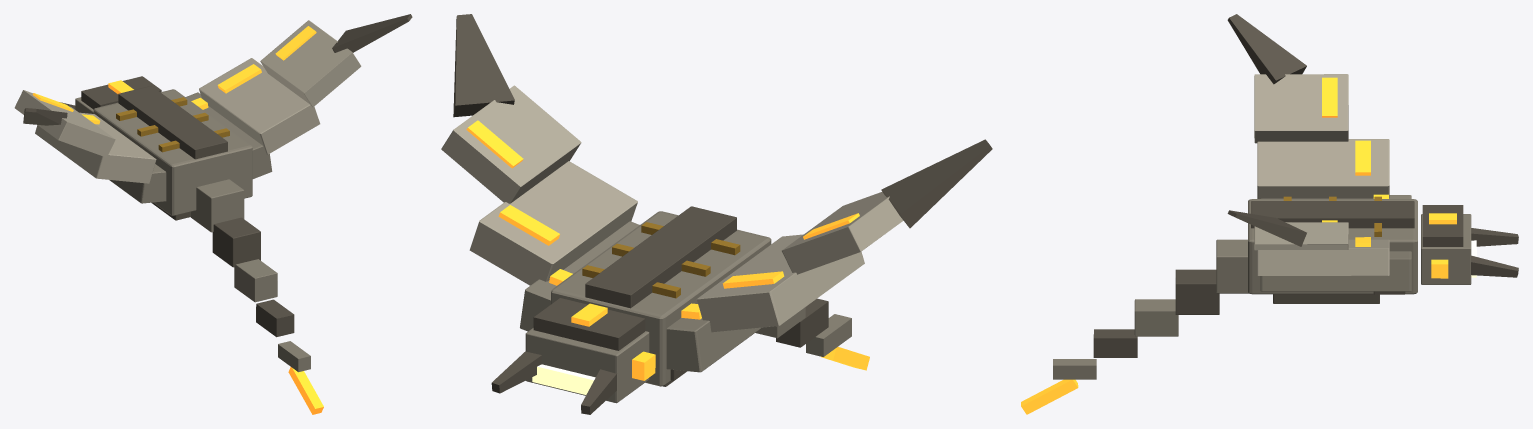
File: mantaris.glb
3 views of the same model, side by side, from view 1: azimuth 30°, elevation 25°; view 2: azimuth 150°, elevation 25°; view 3: azimuth 270°, elevation 25° (orthographic). The views are drawn at different scales.
Visible parts, largest first — view 1: wing.L, body, tail, wing.R, head; view 2: wing.L, wing.R, body, head, tail; view 3: wing.R, wing.L, tail, body, head.
Boxes of the visible parts, <box> form: wing.L: <box>185,14,412,178</box>; body: <box>93,86,252,220</box>; tail: <box>190,179,323,414</box>; wing.R: <box>14,90,166,203</box>; head: <box>60,76,161,113</box>; wing.L: <box>441,14,639,331</box>; wing.R: <box>666,139,992,372</box>; body: <box>551,206,771,386</box>; head: <box>491,298,655,414</box>; tail: <box>755,298,869,370</box>; wing.R: <box>1227,14,1411,198</box>; wing.L: <box>1227,210,1411,291</box>; tail: <box>1021,239,1248,414</box>; body: <box>1248,196,1417,303</box>; head: <box>1421,205,1518,284</box>.
Bounding box in the file's own units: 1.44 × 1 × 1.51.
